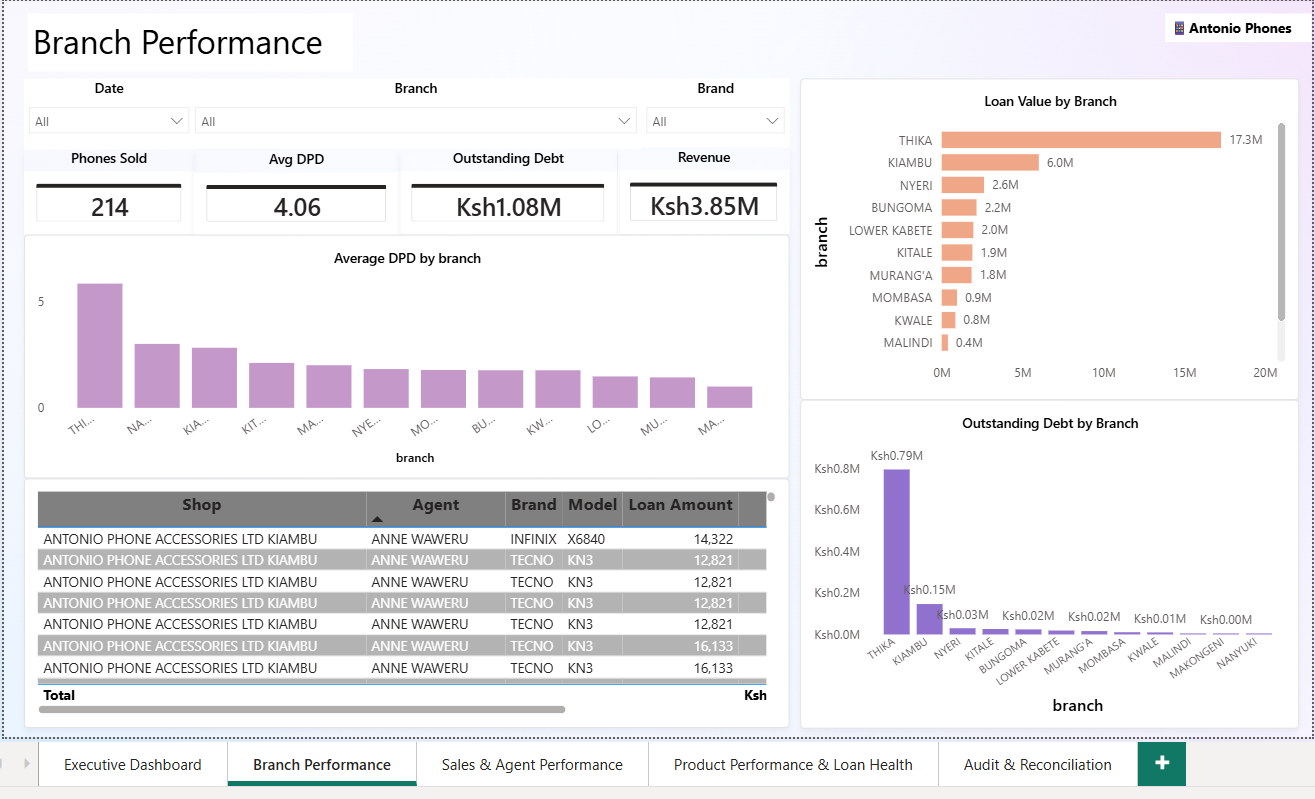

The page's visual inventory and layout, read from the dashboard file:
{"tool":"powerbi","page":{"name":"Branch Performance","canvas":[1280,720],"ordinal":1},"visuals":[{"type":"textbox","box":[22.9,12.1,318.5,56.7],"z":0},{"type":"slicer","title":"Date","fields":{"Values":["Calendar.Date"]},"box":[19.6,75.8,166.3,69.7],"z":1000},{"type":"slicer","title":"Branch","fields":{"Values":["master_loans.shop"]},"box":[182.2,75.8,441.4,68.5],"z":2000},{"type":"slicer","title":"Brand","fields":{"Values":["master_loans.brand"]},"box":[623.8,76.2,145,67.5],"z":3000},{"type":"cardVisual","title":"Phones Sold","fields":{"Data":["KPI.Phones Sold"]},"box":[19.6,144.3,166.3,84.4],"z":4000},{"type":"clusteredBarChart","title":"Loan Value by Branch","fields":{"Y":["Sum(master_loans.loan_amount)"],"Category":["master_loans.branch"]},"box":[778.9,75.8,487.9,314.3],"z":5000},{"type":"cardVisual","title":"Revenue","fields":{"Data":["KPI.Revenue"]},"box":[600,142.5,168.8,85],"z":6000},{"type":"cardVisual","title":"Outstanding Debt","fields":{"Data":["KPI.Outstanding Debt"]},"box":[386.4,144.3,214,84.4],"z":7000},{"type":"cardVisual","title":"Avg DPD","fields":{"Data":["KPI.Average DPD"]},"box":[185.9,145.5,200.5,83.2],"z":8000},{"type":"clusteredColumnChart","title":"Outstanding Debt by Branch","fields":{"Y":["Sum(master_loans.debt)"],"Category":["master_loans.branch"]},"box":[778.9,390.1,487.9,321.6],"z":9000},{"type":"clusteredColumnChart","fields":{"Y":["KPI.Average DPD"],"Category":["master_loans.branch"]},"box":[20,228.8,748.8,238.8],"z":10000},{"type":"tableEx","fields":{"Values":["master_loans.shop","master_loans.agent","master_loans.brand","master_loans.model","master_loans.loan_amount","Sum(master_loans.debt)","master_loans.dpd","master_loans.agreement_number"]},"box":[20,467.5,748.8,243.8],"z":11000},{"type":"textbox","box":[1136.4,12.1,143.6,27.7],"z":12000}]}

Visuals, with their boxes on the page's 1280x720 design canvas (x1, y1, x2, y2). These are canvas units, not pixel positions in the 1315x799 screenshot, which may show the page scaled, cropped or inside an application window:
textbox: pyautogui.locateOnScreen(23, 12, 341, 69)
"Date" slicer: pyautogui.locateOnScreen(20, 76, 186, 146)
"Branch" slicer: pyautogui.locateOnScreen(182, 76, 624, 144)
"Brand" slicer: pyautogui.locateOnScreen(624, 76, 769, 144)
"Phones Sold" cardVisual: pyautogui.locateOnScreen(20, 144, 186, 229)
"Loan Value by Branch" clusteredBarChart: pyautogui.locateOnScreen(779, 76, 1267, 390)
"Revenue" cardVisual: pyautogui.locateOnScreen(600, 142, 769, 228)
"Outstanding Debt" cardVisual: pyautogui.locateOnScreen(386, 144, 600, 229)
"Avg DPD" cardVisual: pyautogui.locateOnScreen(186, 146, 386, 229)
"Outstanding Debt by Branch" clusteredColumnChart: pyautogui.locateOnScreen(779, 390, 1267, 712)
clusteredColumnChart - KPI.Average DPD x master_loans.branch: pyautogui.locateOnScreen(20, 229, 769, 468)
tableEx - master_loans.shop x master_loans.agent: pyautogui.locateOnScreen(20, 468, 769, 711)
textbox: pyautogui.locateOnScreen(1136, 12, 1280, 40)
